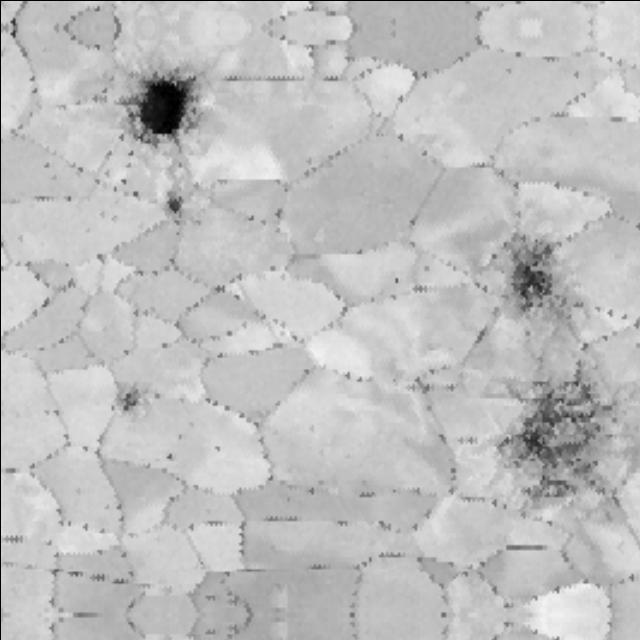good_void: (482, 362, 631, 504), (494, 229, 585, 336), (119, 61, 210, 157), (90, 376, 160, 420), (161, 182, 186, 221), (384, 270, 418, 290), (207, 437, 232, 457), (155, 447, 182, 464)
